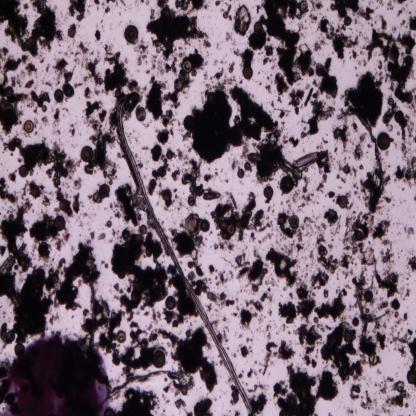Background material: (190, 85, 280, 164), (107, 231, 168, 311), (260, 0, 315, 84), (156, 330, 218, 392), (52, 240, 101, 315), (0, 268, 51, 338), (2, 138, 76, 184), (274, 365, 338, 415), (146, 9, 207, 60), (81, 305, 122, 365), (342, 72, 384, 129), (0, 200, 33, 272), (322, 324, 364, 380), (84, 119, 116, 187), (119, 318, 155, 378), (342, 211, 378, 269), (30, 1, 64, 57), (317, 18, 359, 59), (359, 305, 387, 366), (384, 60, 416, 109), (363, 152, 388, 212), (167, 267, 196, 318), (300, 100, 336, 140), (233, 253, 268, 294), (112, 388, 160, 415), (312, 287, 351, 320), (0, 0, 31, 41), (268, 247, 299, 288), (113, 185, 142, 228), (294, 323, 320, 367), (399, 119, 416, 186), (364, 28, 397, 61), (0, 92, 26, 133), (171, 229, 203, 262), (314, 234, 340, 274), (104, 51, 129, 90), (317, 57, 339, 101), (189, 266, 217, 300), (237, 192, 255, 242), (381, 376, 409, 408), (391, 314, 412, 356), (374, 270, 404, 298), (294, 285, 316, 322), (147, 74, 165, 119), (178, 161, 202, 193), (45, 255, 65, 292), (29, 215, 56, 242), (353, 130, 372, 163), (84, 55, 104, 85), (210, 201, 235, 225), (298, 174, 314, 211), (382, 98, 398, 132), (234, 5, 250, 39), (262, 340, 277, 376), (276, 210, 294, 239), (296, 220, 314, 249), (188, 396, 214, 416), (370, 217, 392, 240), (332, 122, 350, 150), (395, 30, 416, 54), (150, 56, 177, 74), (245, 294, 269, 314), (276, 338, 296, 362), (322, 208, 341, 233), (272, 72, 290, 97), (30, 90, 51, 111), (134, 39, 150, 66), (278, 301, 296, 325), (0, 177, 16, 204), (288, 89, 306, 113), (172, 145, 193, 165), (160, 312, 186, 328), (254, 208, 272, 231), (317, 149, 333, 174), (247, 394, 268, 413), (379, 244, 395, 268), (68, 0, 86, 21), (214, 269, 235, 287), (175, 0, 208, 11), (248, 31, 267, 50), (309, 269, 329, 287), (149, 144, 166, 165), (213, 67, 227, 92), (55, 231, 72, 251), (84, 99, 102, 117), (162, 90, 180, 108), (240, 309, 257, 328), (360, 388, 374, 411), (188, 52, 203, 73), (228, 384, 241, 407), (162, 110, 178, 128), (359, 5, 375, 23), (55, 59, 67, 83), (239, 46, 254, 64), (108, 108, 117, 135), (212, 241, 234, 252), (9, 72, 25, 87), (262, 46, 274, 66), (218, 293, 234, 308), (408, 340, 416, 369), (172, 395, 187, 410), (147, 170, 156, 195), (126, 78, 141, 93), (257, 232, 274, 245), (224, 31, 237, 48), (72, 192, 82, 214), (317, 173, 327, 194), (52, 104, 60, 129), (78, 210, 89, 228), (223, 4, 234, 22), (240, 140, 249, 162), (310, 0, 325, 13), (53, 184, 65, 200), (156, 130, 169, 144), (275, 108, 291, 119), (0, 322, 8, 343), (78, 41, 90, 55), (287, 134, 299, 148), (348, 384, 360, 398), (407, 255, 416, 273), (20, 180, 29, 198), (379, 13, 388, 31), (0, 45, 10, 61), (74, 56, 86, 69), (402, 226, 414, 239), (389, 299, 401, 312), (218, 332, 230, 345), (103, 43, 114, 57), (88, 195, 102, 206), (407, 15, 416, 32), (136, 107, 146, 122), (156, 0, 171, 10), (25, 63, 37, 75), (68, 122, 77, 138), (278, 322, 290, 334), (181, 131, 192, 144), (104, 0, 126, 6), (246, 386, 268, 392), (240, 345, 250, 358), (98, 109, 107, 123), (23, 80, 35, 90), (202, 40, 214, 50), (20, 52, 30, 64), (171, 169, 180, 182), (327, 189, 336, 202), (8, 169, 17, 182), (83, 86, 92, 99), (42, 194, 50, 208), (74, 177, 82, 191), (203, 172, 214, 182), (93, 30, 102, 42), (383, 195, 392, 207), (264, 325, 272, 338), (256, 314, 267, 323), (0, 244, 7, 258), (204, 302, 212, 314), (116, 150, 125, 160), (44, 79, 54, 88), (233, 48, 242, 58), (246, 367, 254, 378), (386, 1, 394, 12), (42, 115, 49, 127), (377, 59, 383, 73), (266, 82, 272, 95), (229, 63, 235, 75), (90, 229, 96, 241), (396, 0, 408, 6), (405, 286, 410, 300), (73, 81, 83, 88), (103, 6, 111, 14), (97, 233, 105, 241), (213, 0, 223, 6), (68, 23, 77, 29), (104, 221, 111, 228), (23, 4, 29, 12), (288, 292, 294, 300), (94, 87, 100, 95), (92, 0, 100, 6), (45, 63, 50, 72), (38, 57, 44, 64), (234, 410, 241, 416), (397, 10, 404, 16), (401, 20, 406, 28), (170, 129, 174, 138), (238, 372, 243, 378), (208, 8, 209, 10)
Diatom: (250, 134, 282, 184), (292, 151, 318, 168), (186, 213, 201, 236), (280, 175, 295, 195), (124, 25, 138, 43), (153, 349, 166, 368), (377, 132, 390, 150), (81, 146, 94, 162), (54, 214, 65, 231), (184, 114, 195, 130), (166, 293, 176, 310), (99, 184, 110, 199), (388, 47, 399, 61), (14, 342, 25, 356), (338, 194, 348, 209), (24, 119, 34, 134), (54, 89, 64, 103), (264, 185, 274, 199), (38, 243, 48, 257), (289, 214, 299, 228), (394, 110, 404, 124), (162, 188, 172, 202), (252, 20, 263, 32), (18, 166, 29, 178), (116, 330, 127, 342), (243, 66, 253, 79), (182, 60, 192, 73), (64, 84, 74, 97), (200, 220, 210, 233), (363, 290, 373, 303), (204, 192, 220, 200), (6, 329, 15, 343), (407, 370, 416, 384), (179, 70, 188, 84), (404, 54, 414, 66), (59, 200, 69, 211), (343, 14, 352, 26), (195, 186, 204, 198), (5, 85, 14, 97), (158, 165, 167, 177), (316, 64, 324, 77), (300, 1, 309, 12), (228, 223, 236, 235), (219, 220, 227, 232), (31, 186, 39, 198), (86, 258, 94, 270), (236, 168, 245, 178), (174, 81, 183, 91), (186, 195, 194, 206), (166, 149, 174, 160), (27, 38, 35, 48), (64, 72, 72, 82), (246, 222, 256, 230), (68, 28, 76, 38), (244, 161, 251, 171), (344, 165, 351, 174), (21, 42, 28, 51), (352, 318, 359, 327), (396, 169, 402, 179), (187, 260, 193, 269)
Pen: (0, 340, 113, 416)
